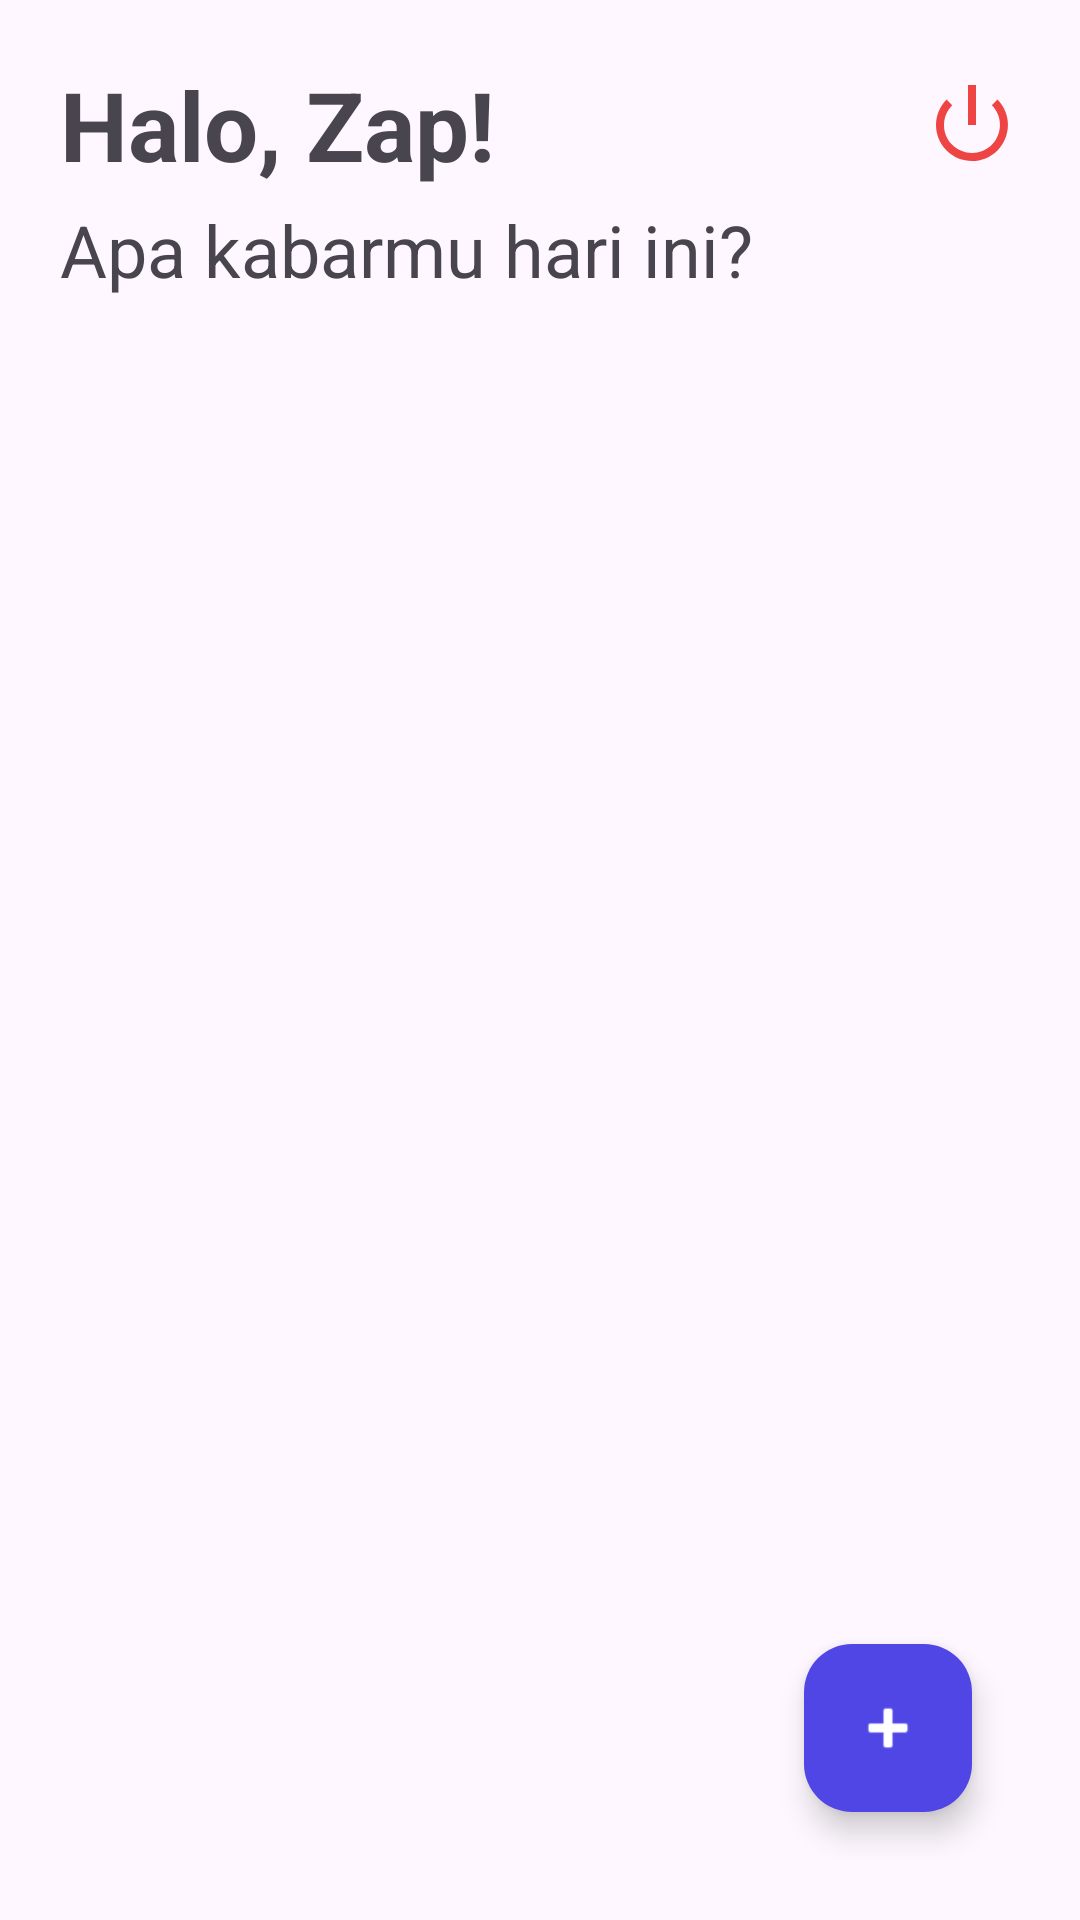

Named icons in this screenshot (1080px x 1920px) and their centers, (x=x, y=y):
add: (x=888, y=1728)
lock power off: (x=972, y=123)
